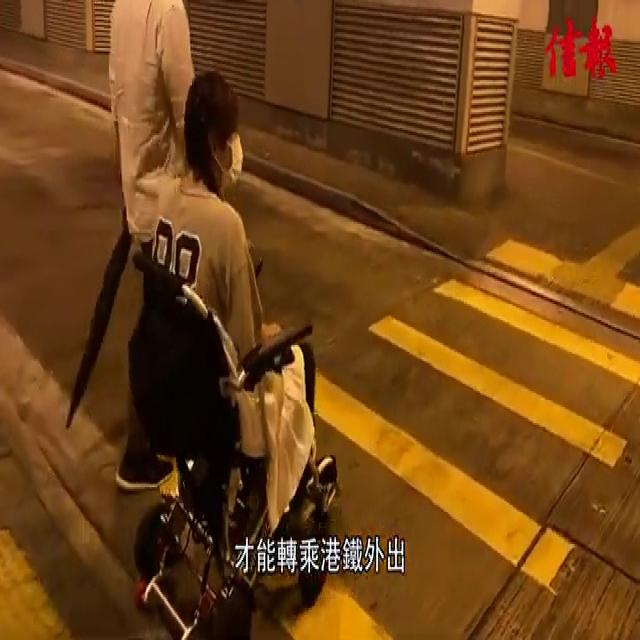wheelchairs: (122, 243, 345, 640)
